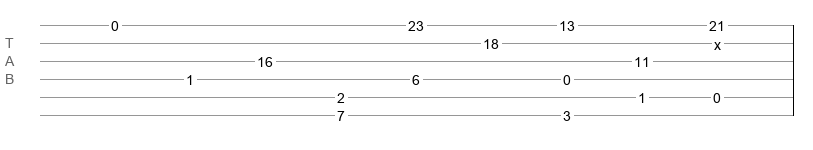0: (111, 18, 119, 28), (563, 72, 571, 82), (713, 90, 721, 100)
1: (186, 72, 194, 82), (638, 90, 646, 100)
11: (634, 54, 650, 64)
13: (559, 18, 575, 28)
16: (257, 54, 273, 64)
18: (483, 36, 499, 46)
2: (337, 90, 345, 100)
21: (709, 18, 725, 28)
23: (408, 18, 424, 28)
3: (563, 108, 571, 118)
6: (412, 72, 420, 82)
7: (337, 108, 345, 118)
x: (714, 37, 721, 45)
